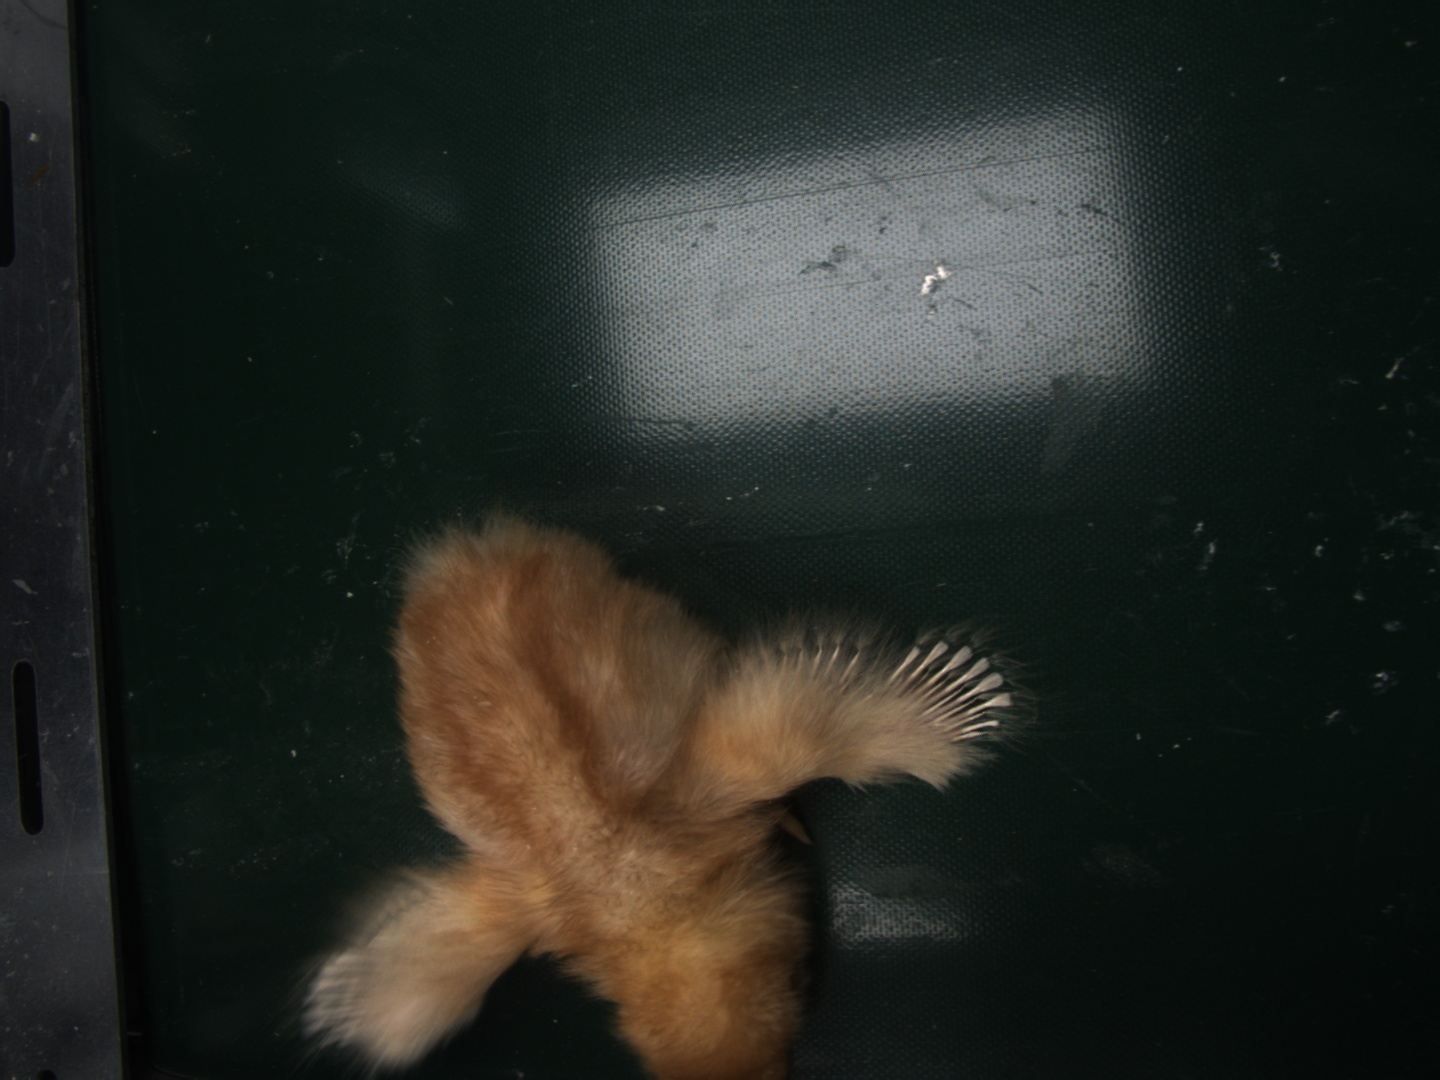female: (889, 640, 1013, 749)
